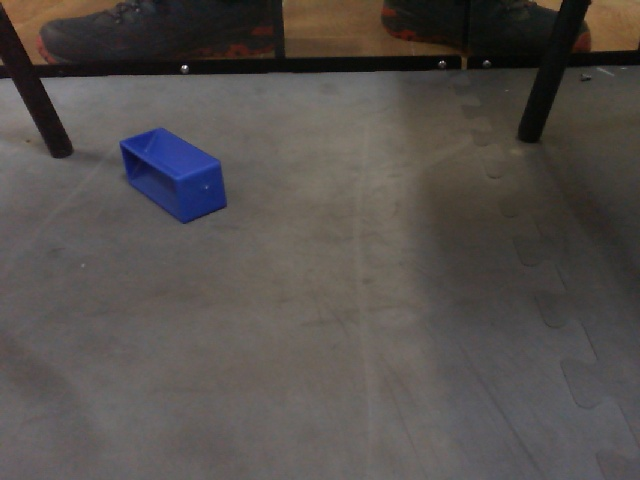BlueSample: (119, 123, 229, 226)
